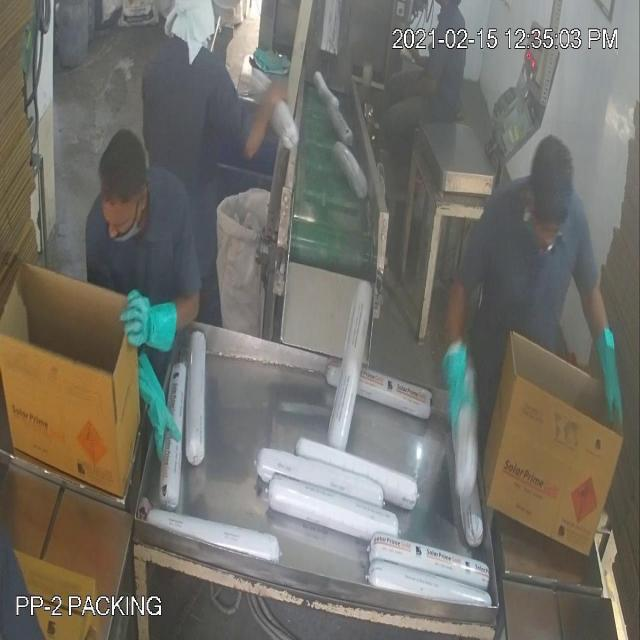Gloves: (49, 78, 608, 408)
